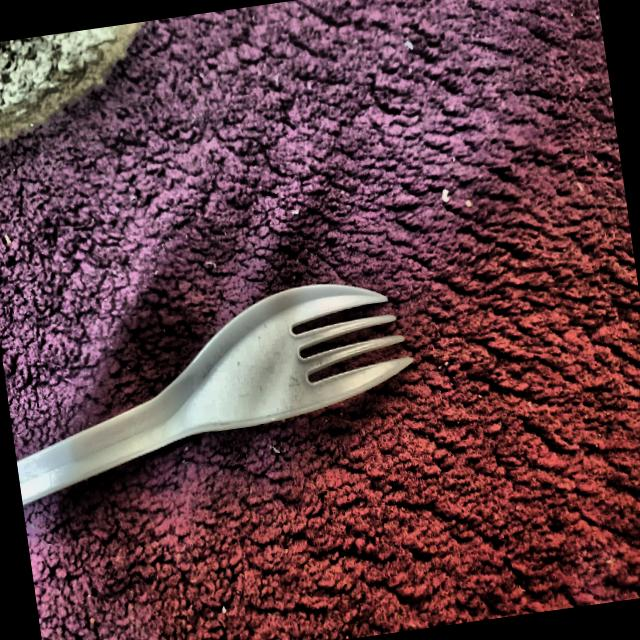plastic utensil: (0, 269, 433, 554)
